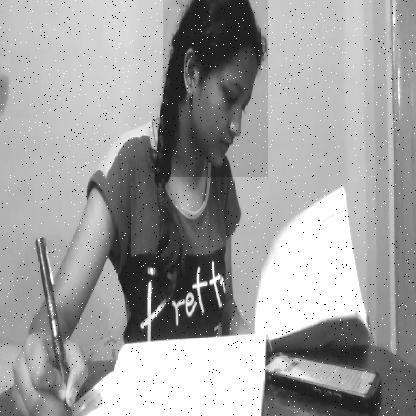Distracted: (163, 0, 268, 177)
